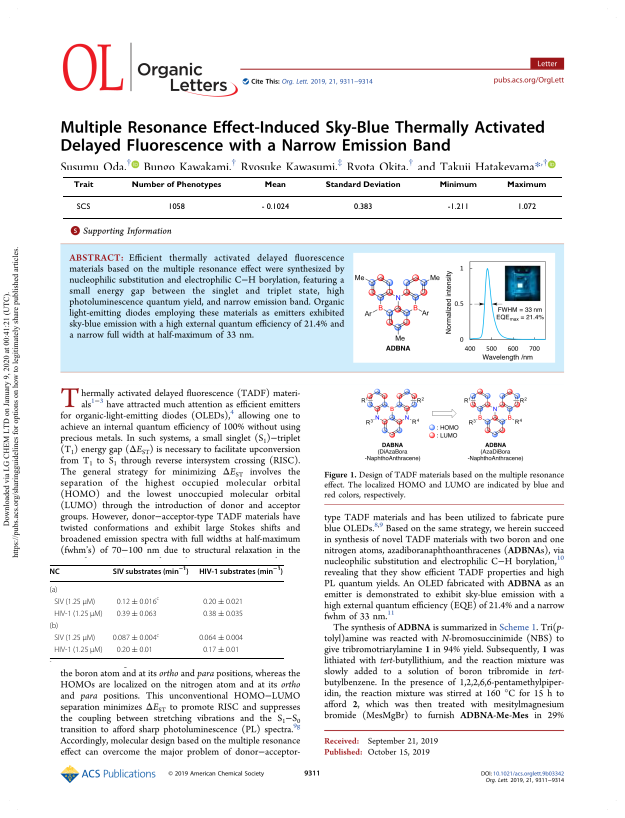borderless: (48, 563, 284, 658), (62, 175, 562, 218)
cell: (198, 566, 284, 576), (130, 180, 222, 189), (112, 566, 190, 576), (324, 180, 401, 189), (112, 632, 160, 643), (53, 609, 104, 619), (116, 596, 160, 607), (53, 646, 104, 655), (53, 597, 96, 607), (202, 597, 244, 607), (116, 609, 158, 619), (202, 609, 244, 619), (198, 634, 244, 643), (53, 634, 96, 643), (506, 180, 547, 189), (438, 180, 477, 189), (116, 646, 154, 655), (202, 646, 240, 655), (260, 202, 290, 210), (263, 180, 286, 189), (72, 180, 94, 189), (446, 202, 469, 210), (516, 202, 537, 210), (353, 202, 373, 210), (167, 202, 185, 210), (75, 202, 91, 210), (49, 567, 61, 576), (49, 585, 58, 595), (49, 622, 59, 631)
